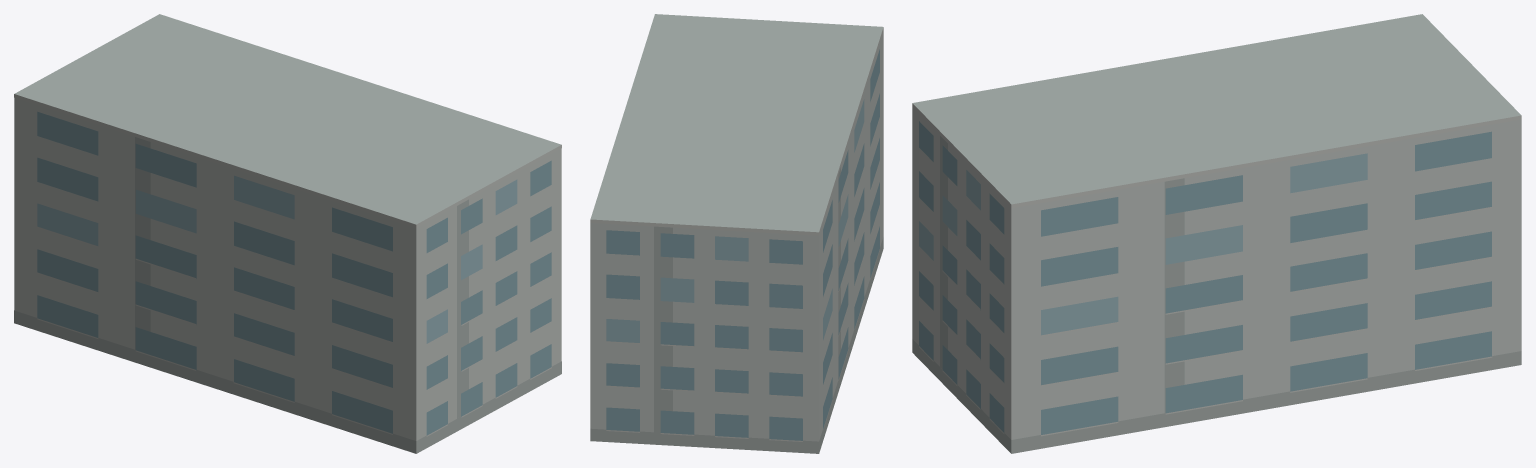
File: residential-edb37df2-f0c9-4ffc-a32a-a6ae2c1d8af4.glb
The picture shows the model from 3 angles, left to right: view 1: azimuth 30°, elevation 25°; view 2: azimuth 150°, elevation 25°; view 3: azimuth 270°, elevation 25°; orthographic projection. The views are drawn at different scales.
Visible parts, largest first — view 1: residential-edb37df2-f0c9-4ffc-a32a-a6ae2c1d8af4.tmp; view 2: residential-edb37df2-f0c9-4ffc-a32a-a6ae2c1d8af4.tmp; view 3: residential-edb37df2-f0c9-4ffc-a32a-a6ae2c1d8af4.tmp.
Boxes of the visible parts, box(x1,y1,x2,y2) form: residential-edb37df2-f0c9-4ffc-a32a-a6ae2c1d8af4.tmp: box(14, 14, 561, 453); residential-edb37df2-f0c9-4ffc-a32a-a6ae2c1d8af4.tmp: box(590, 14, 883, 453); residential-edb37df2-f0c9-4ffc-a32a-a6ae2c1d8af4.tmp: box(912, 14, 1521, 453).
Bounding box in the file's own units: 24.98 × 15.25 × 33.76.
